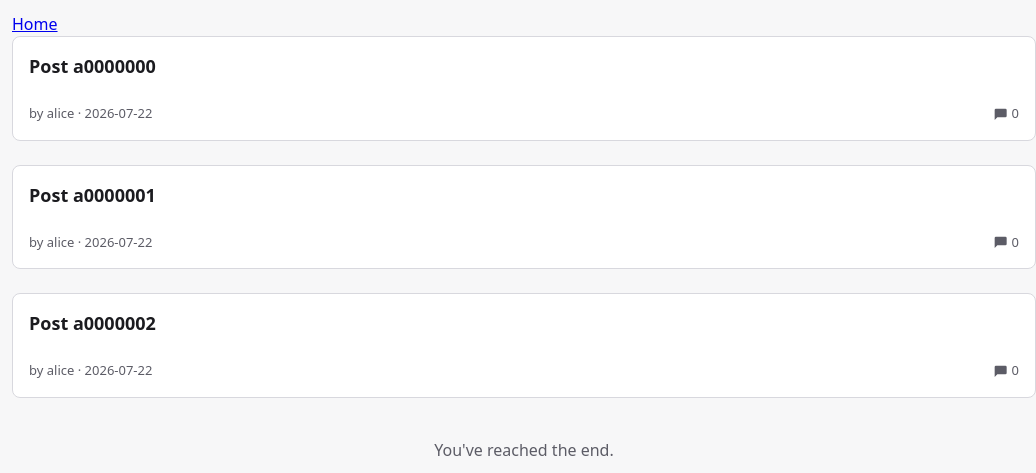
HomePage › resets to a fresh top-of-feed when a link navigates home again
Expected: the link "Post a0000000" is shown, [29,54,156,78]
Step 1. Click the link "Home" → (35, 24), box [12,13,58,35]
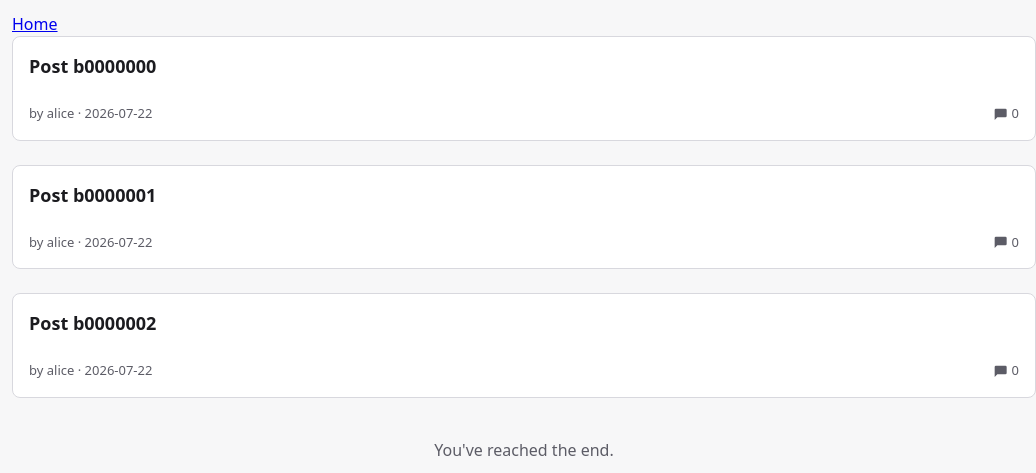
Expected: the link "Post b0000000" is shown, [29,54,156,78]
Expected: the link "Post a0000000" is gone
